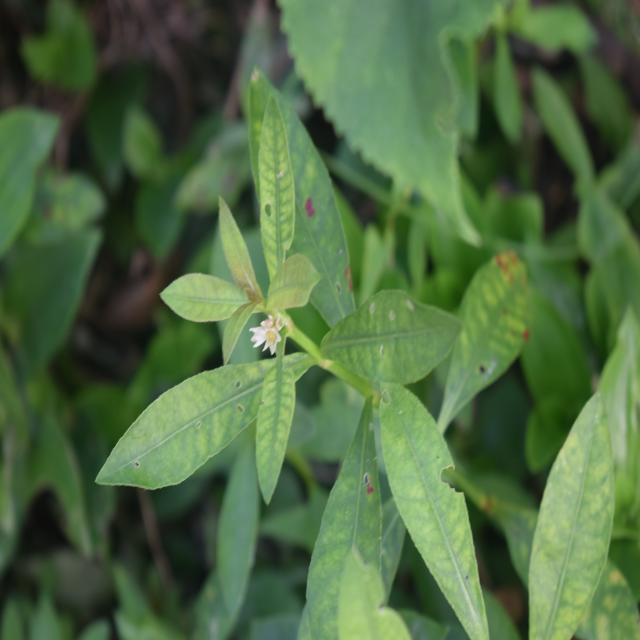Alligatorweed: (131, 104, 447, 556)
